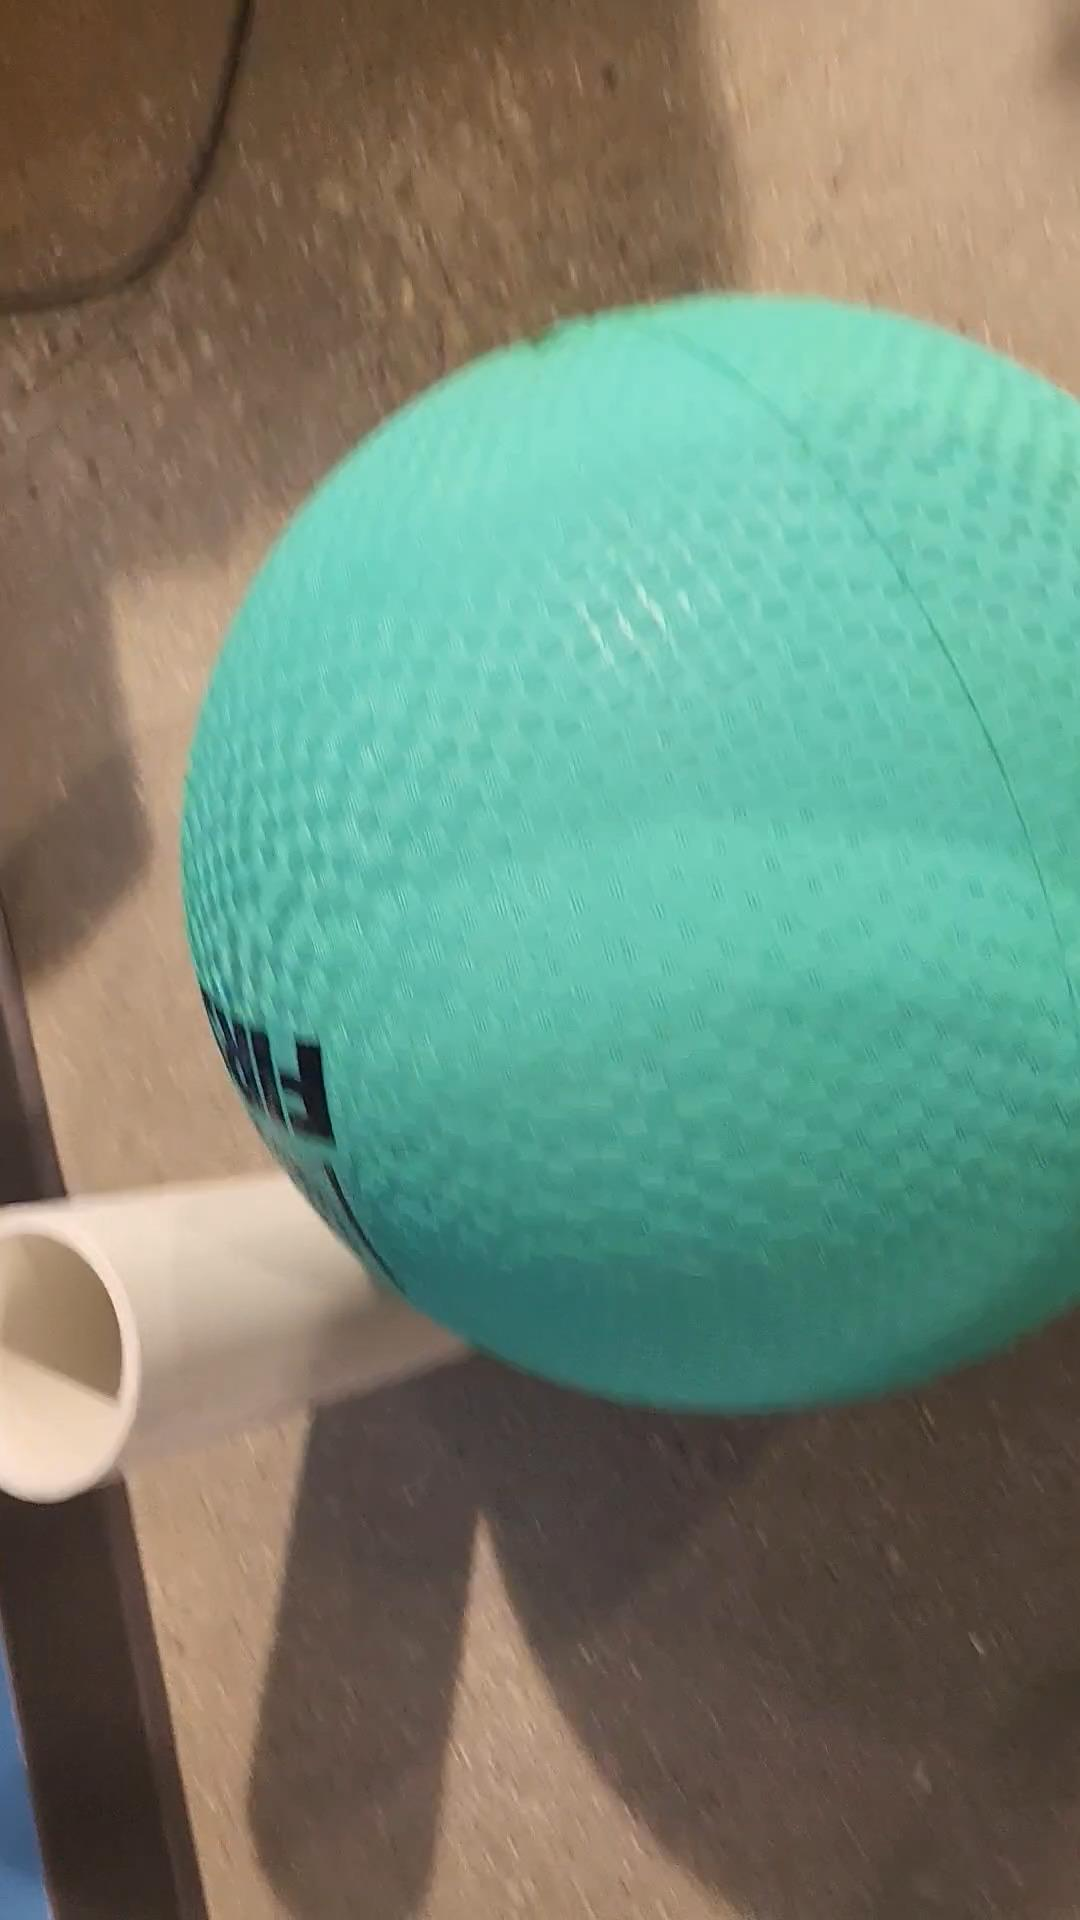algae: (160, 294, 1080, 1400)
coral: (0, 1143, 506, 1528)
